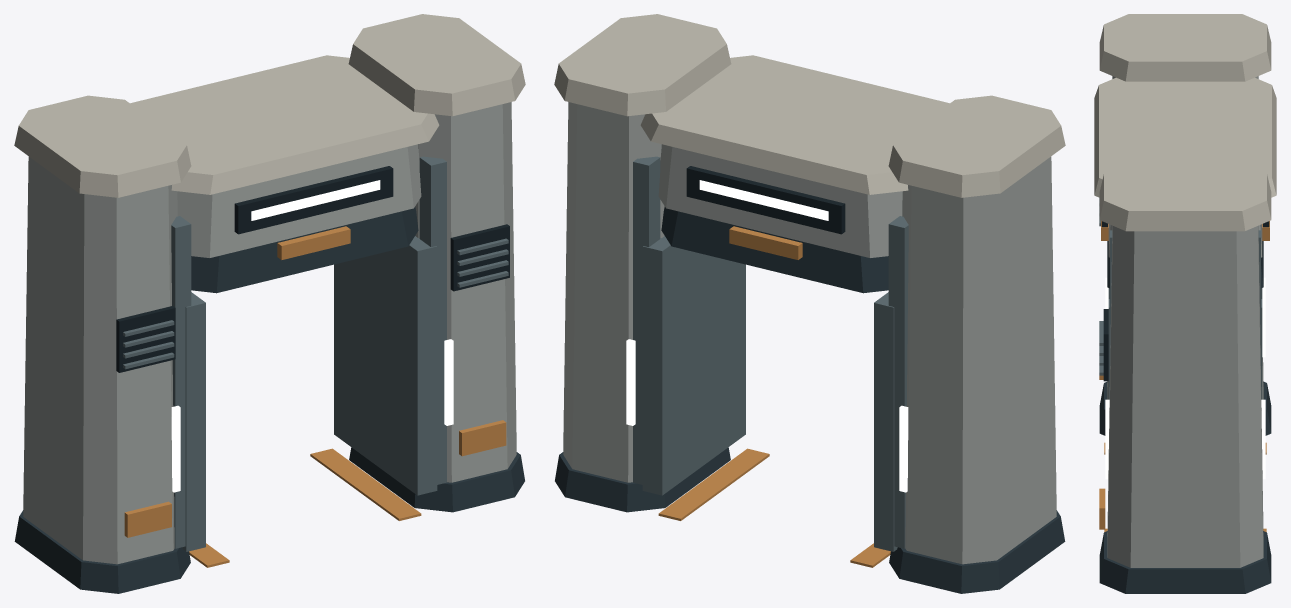
File: gate_t1.glb
3 renders of one model, left to right at view 1: azimuth 30°, elevation 25°; view 2: azimuth 150°, elevation 25°; view 3: azimuth 270°, elevation 25°, orthographic. The views are drawn at different scales.
Visible parts, largest first — view 1: body, glow; view 2: body, glow; view 3: body, glow.
Boxes of the visible parts, x1,y1,x2,y2 form: body: (14, 14, 525, 593); glow: (171, 180, 453, 492); body: (554, 14, 1065, 593); glow: (626, 180, 908, 492); body: (1094, 14, 1276, 593); glow: (1105, 277, 1265, 479).
Bounding box in the file's own units: 3.63 × 3.24 × 1.4.
